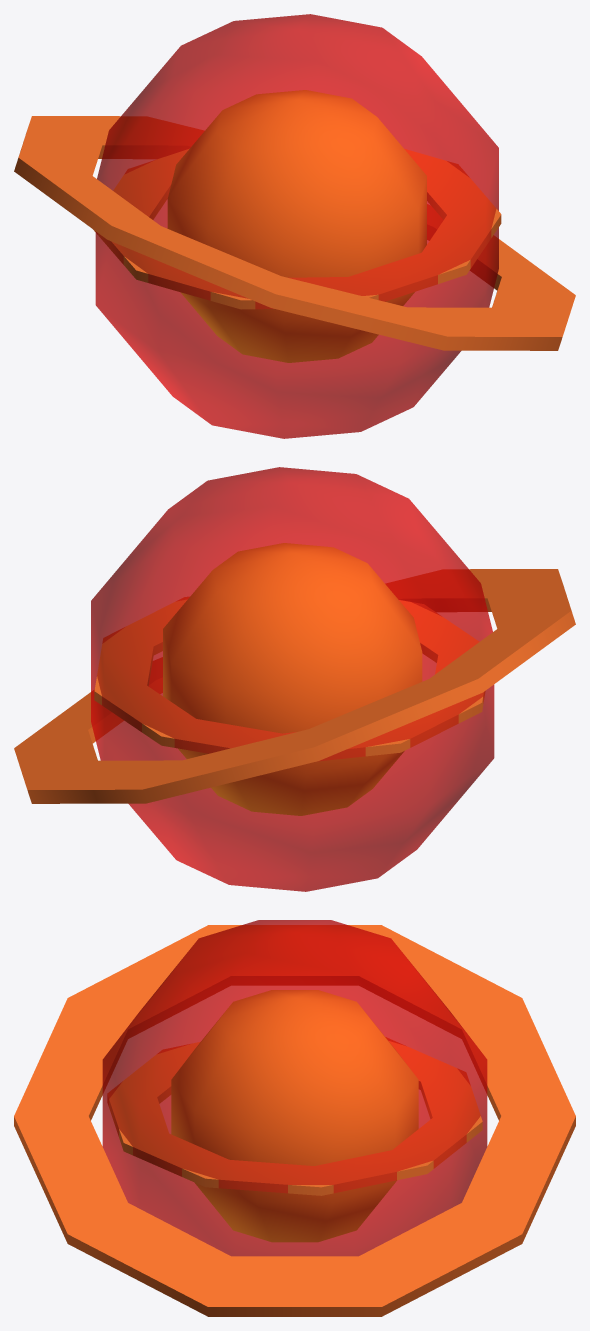
The model's file is Enemy_Attack9.obj.
3 renders of one model, top to bottom at view 1: azimuth 30°, elevation 25°; view 2: azimuth 150°, elevation 25°; view 3: azimuth 270°, elevation 25°, orthographic. The views are drawn at different scales.
Visible parts, largest first — view 1: Sphere002, Sphere001, Tube001, Tube002; view 2: Sphere002, Sphere001, Tube001, Tube002; view 3: Sphere002, Tube001, Sphere001, Tube002.
Boxes of the visible parts, x1,y1,x2,y2 form: Sphere002: (95,14,498,438); Sphere001: (167,90,426,362); Tube001: (14,116,575,350); Tube002: (93,149,501,309); Sphere002: (91,467,494,891); Sphere001: (163,543,422,815); Tube001: (14,569,575,803); Tube002: (94,597,485,761); Sphere002: (102,920,487,1256); Tube001: (14,925,575,1316); Sphere001: (171,990,418,1242); Tube002: (107,1037,482,1195).
Size of the model in its own units: 28.53 by 22.83 by 31.73.
